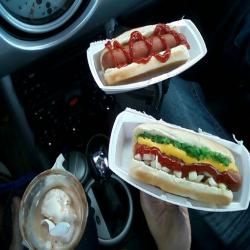hotdog: (123, 123, 246, 212), (92, 20, 200, 84)
icecream: (28, 179, 89, 241)
